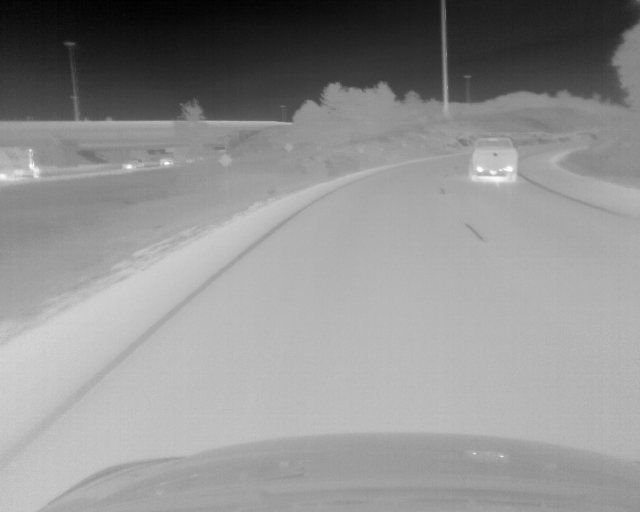car: (470, 136, 518, 181), (1, 147, 42, 182), (122, 158, 148, 170), (160, 156, 172, 166)
